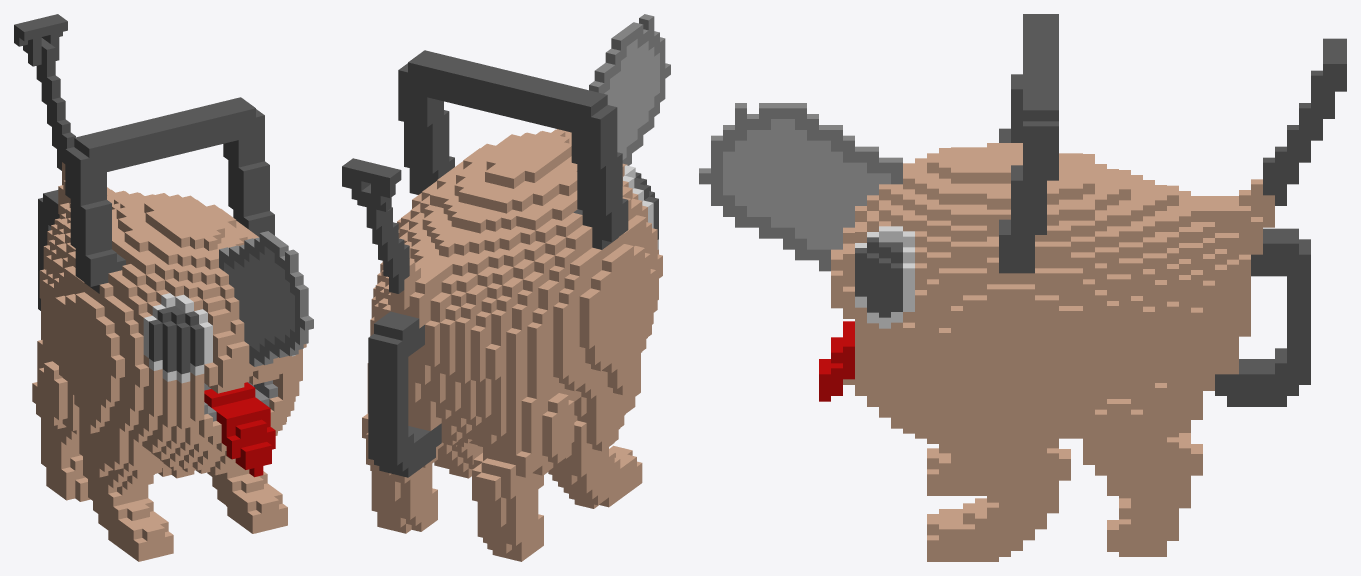
File: pochita.glb
3 renders of one model, left to right at view 1: azimuth 30°, elevation 25°; view 2: azimuth 150°, elevation 25°; view 3: azimuth 270°, elevation 25°, orthographic. The views are drawn at different scales.
Visible parts, largest first — view 1: pochita3; view 2: pochita3; view 3: pochita3.
Part boxes in pixels (x1,y1,x2,y2): pochita3: (14, 14, 313, 561); pochita3: (342, 14, 670, 561); pochita3: (699, 14, 1346, 561).
Bounding box in the file's own units: 21 × 43 × 54.
